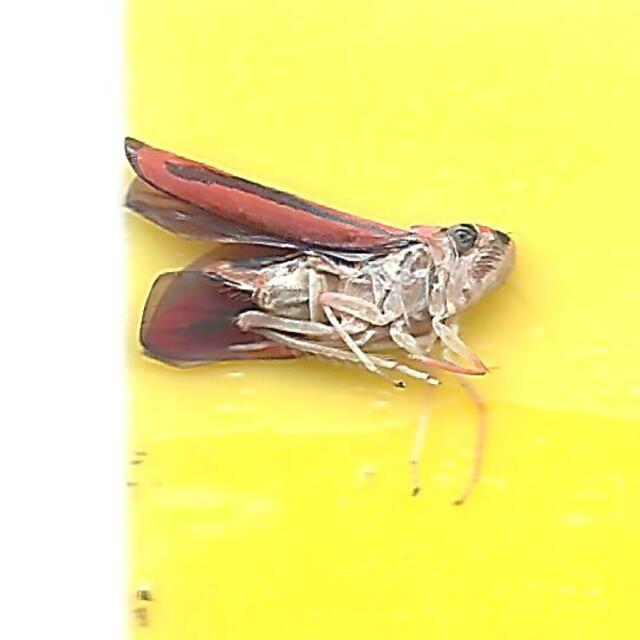Hemiptera: (117, 124, 523, 516)
